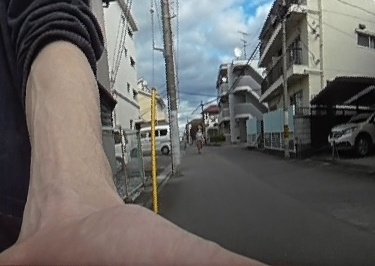person: (194, 127, 204, 153)
